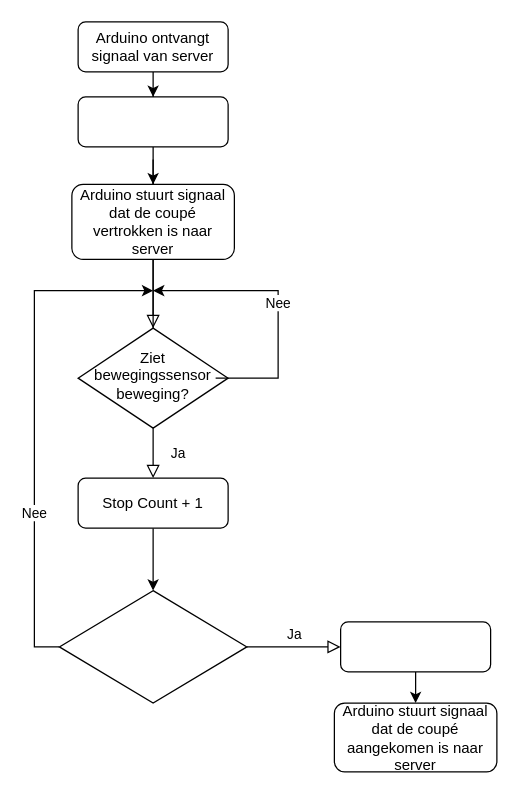
This 519x795 diagram has some shape labels left out. The centre of each missing label's shape, as x and y in pixels:
Activeer stop zodat coupé stopt: (415,646)
Is StopCount gelijk aan StopAantal?: (152,646)
Monorail coupé vertrekt: (152,121)
